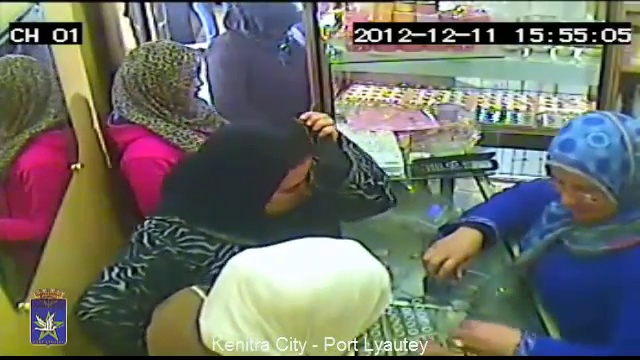face: (555, 160, 622, 222), (265, 149, 321, 216)
